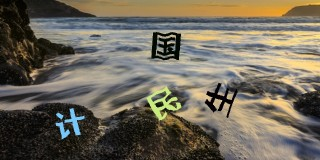国: (149, 30, 181, 61)
民: (146, 84, 182, 119)
生: (204, 82, 238, 119)
计: (53, 107, 85, 141)
